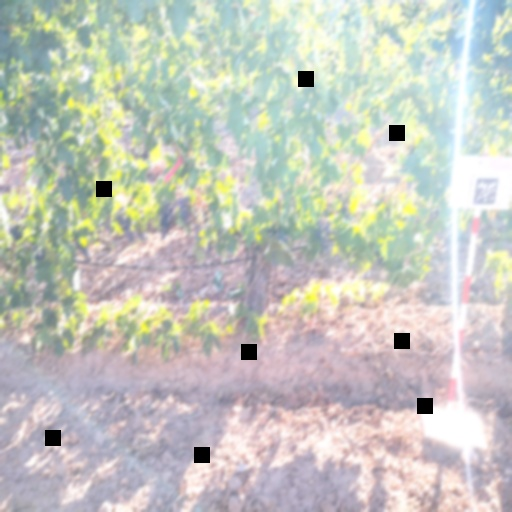QR: (473, 179, 499, 208)
